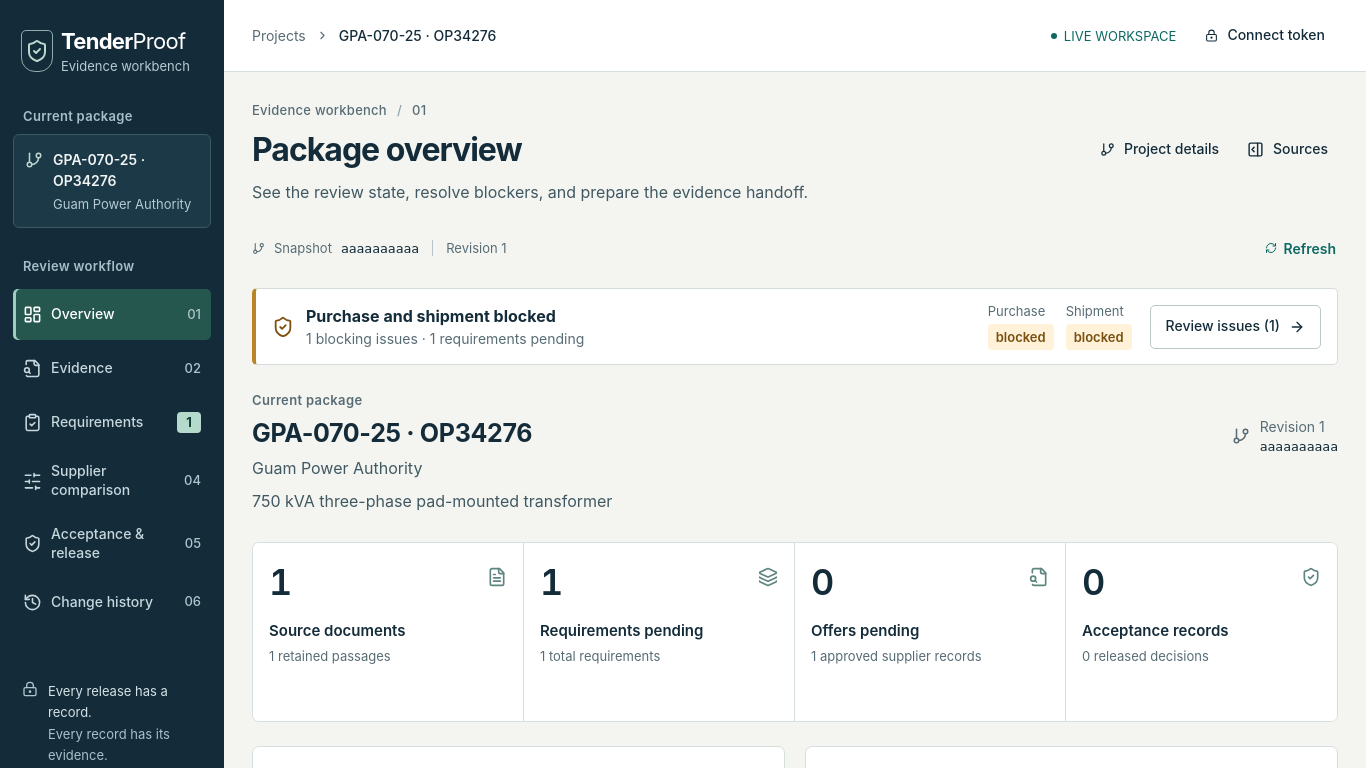
evidence workbench › opens an overview and routes a blocking issue to its actual requirement
expect the heading "Package overview" is shown: met, box [252,130,522,169]
Click the button "Review issues (1)" at (1235, 327), box [1150,305,1321,349]
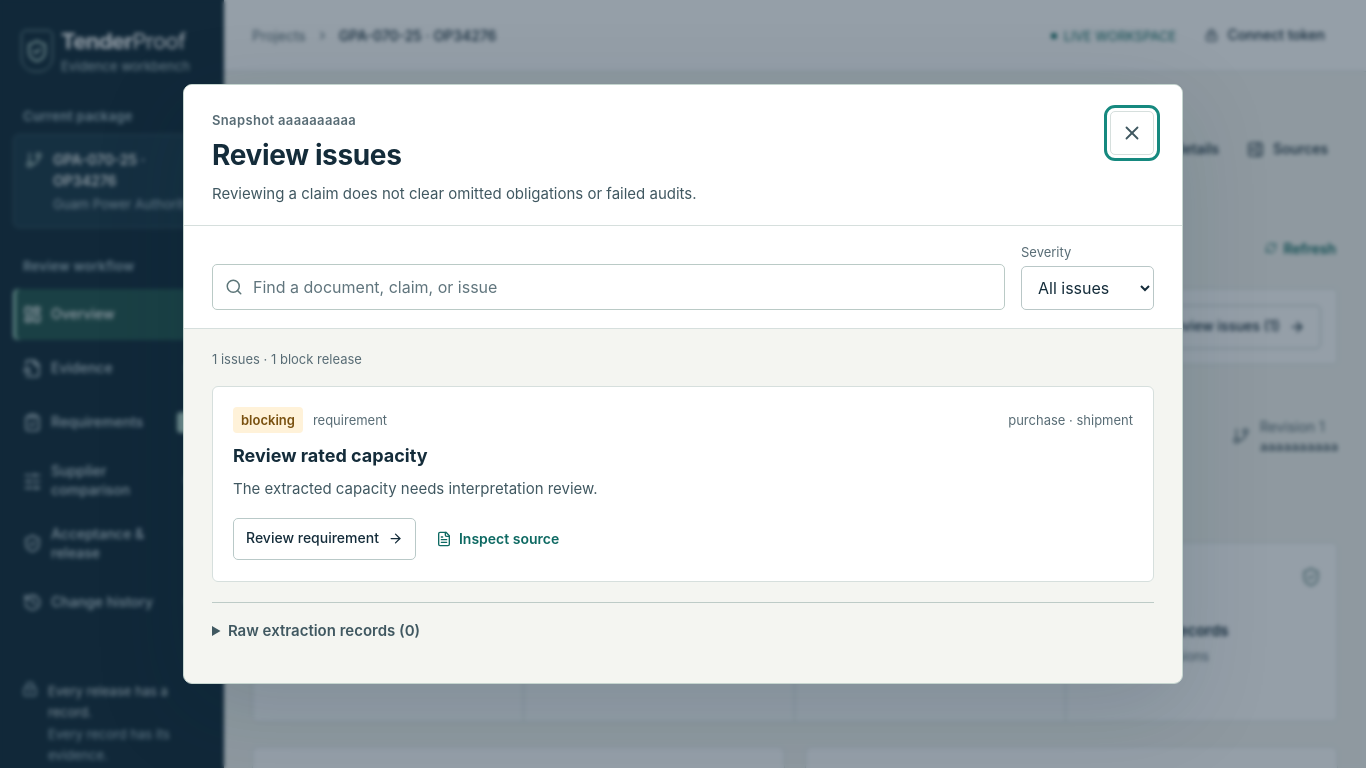
Click the button "Review requirement" at (324, 539), box [233,518,416,560]
(page scrolled)
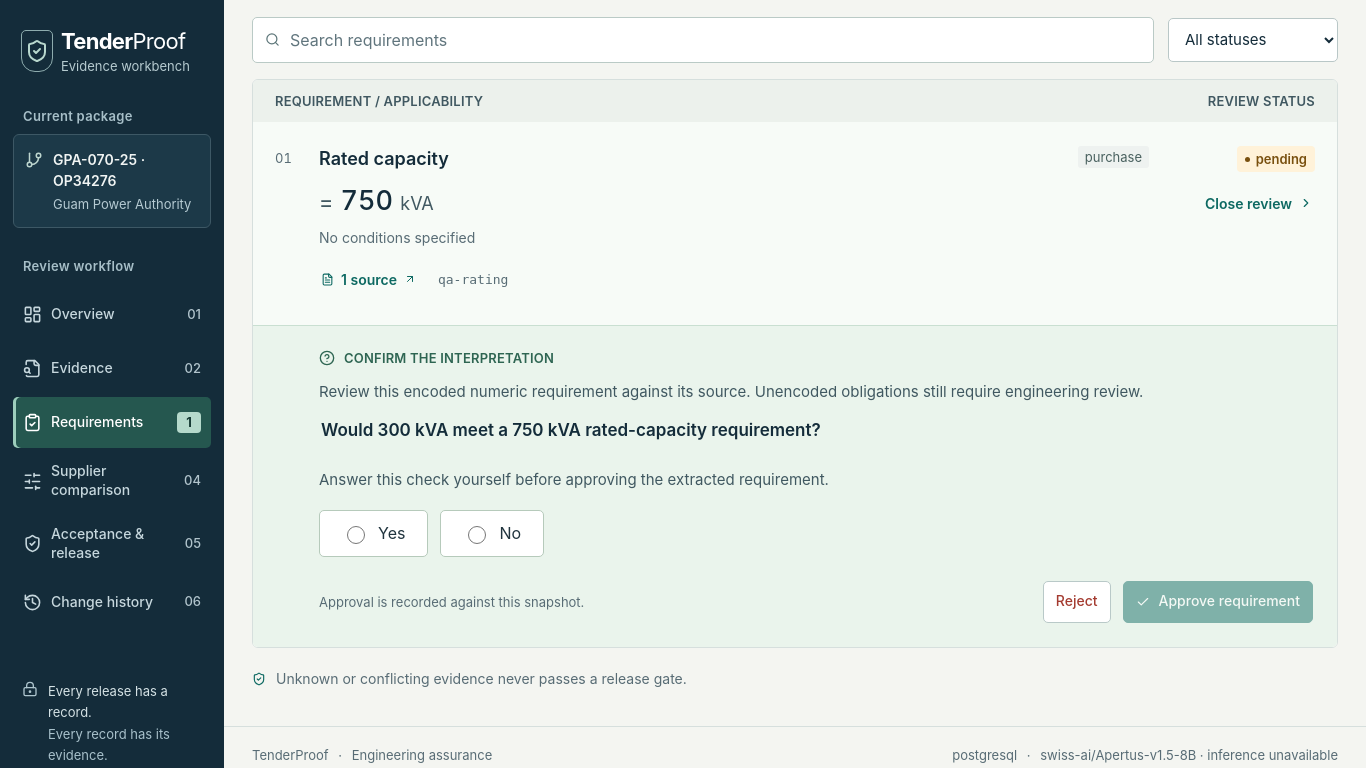
expect the dialog "Review issues" is not shown: met
expect the button "Approve requirement" is disabled: met, box [1122,581,1313,623]
